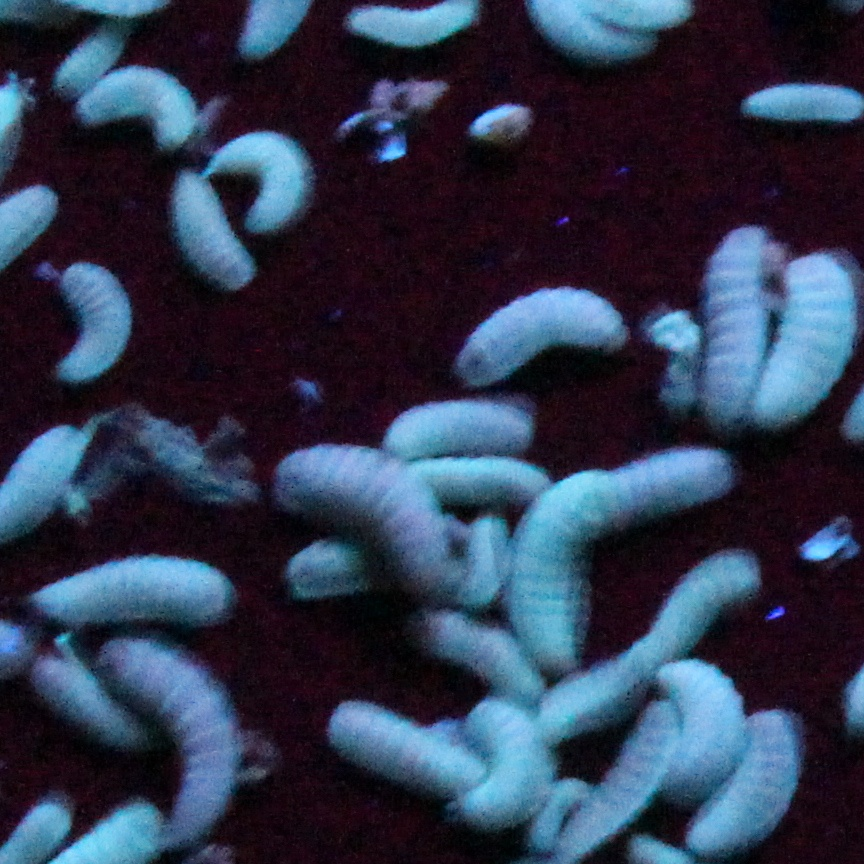larve: (114, 644, 216, 821), (285, 451, 432, 565), (563, 704, 670, 853), (769, 249, 860, 421), (642, 549, 767, 665), (525, 467, 597, 665), (700, 714, 799, 837), (706, 221, 767, 413), (462, 293, 628, 356), (339, 702, 458, 786), (218, 135, 314, 235), (32, 648, 130, 741), (667, 665, 732, 797), (48, 567, 225, 614), (606, 448, 732, 513), (390, 400, 534, 455), (430, 613, 527, 693), (86, 71, 199, 139), (60, 262, 123, 383), (170, 186, 244, 285), (474, 709, 541, 809), (556, 656, 637, 727), (428, 453, 551, 499), (292, 534, 376, 595), (51, 28, 134, 88), (455, 520, 506, 600), (749, 85, 860, 113), (539, 779, 576, 842)
